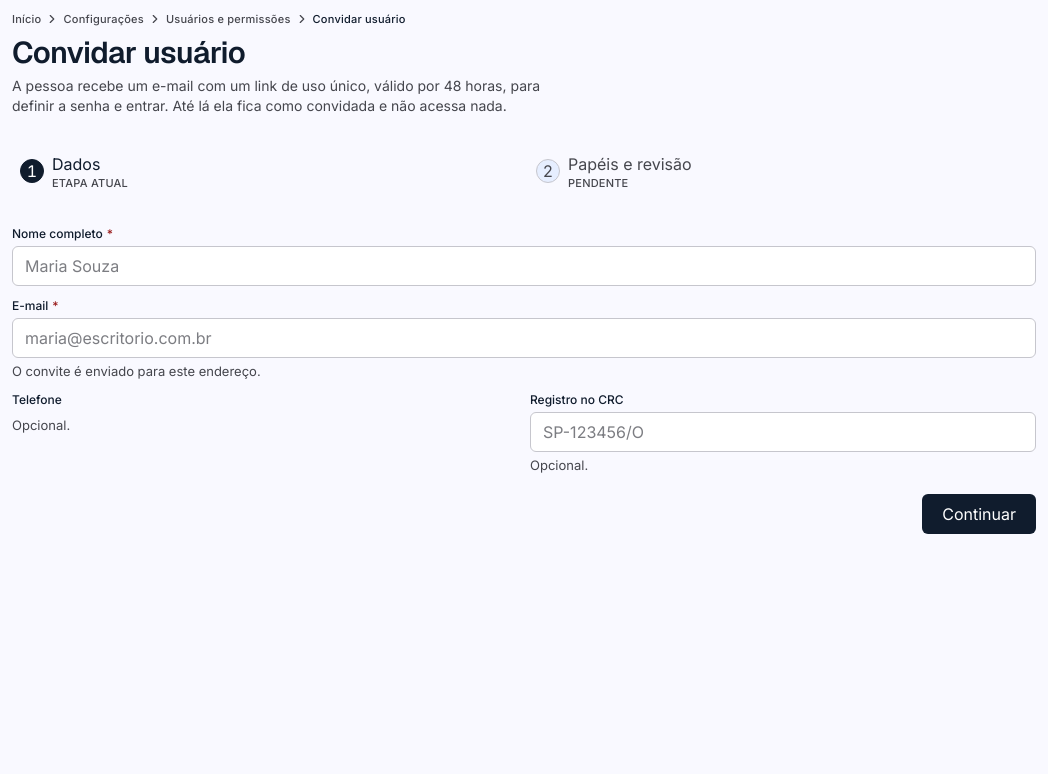
it: etapa 1 — Dados › com dados válidos, vai para a etapa de papéis e revisão
In the field labelled "Nome completo*": {"x": 524, "y": 266} [12,246,1036,286], type "Ana Souza"
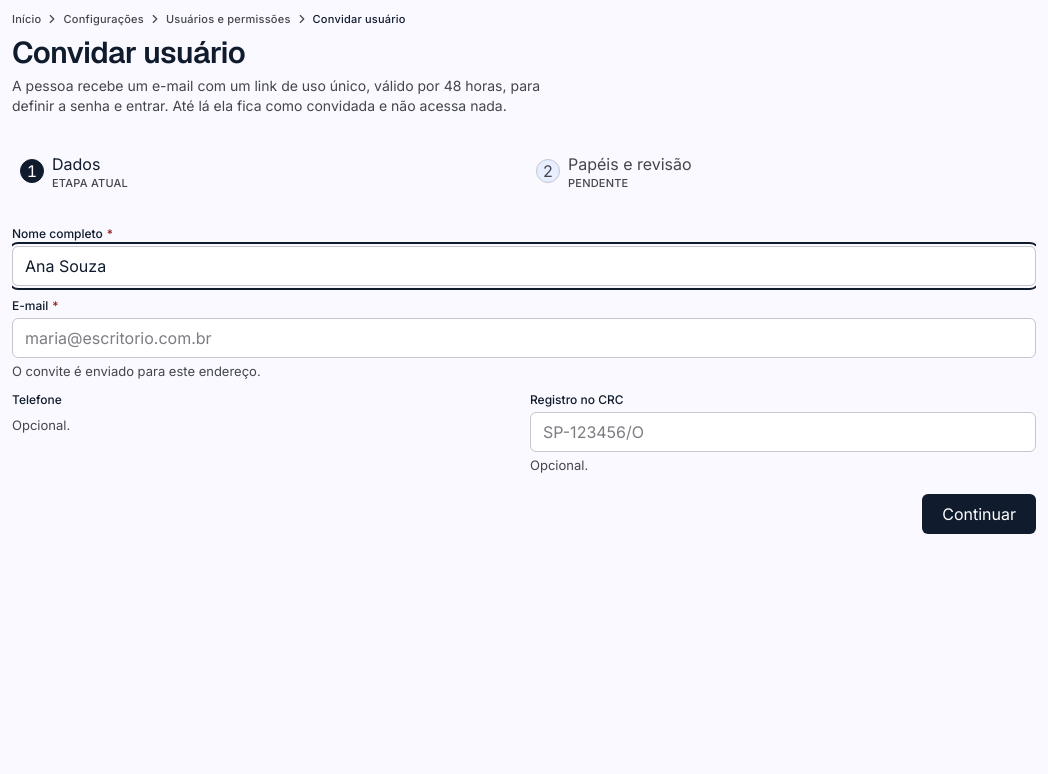
In the field labelled "E-mail*": {"x": 524, "y": 338} [12,318,1036,358], type "ana@escritorio.com"
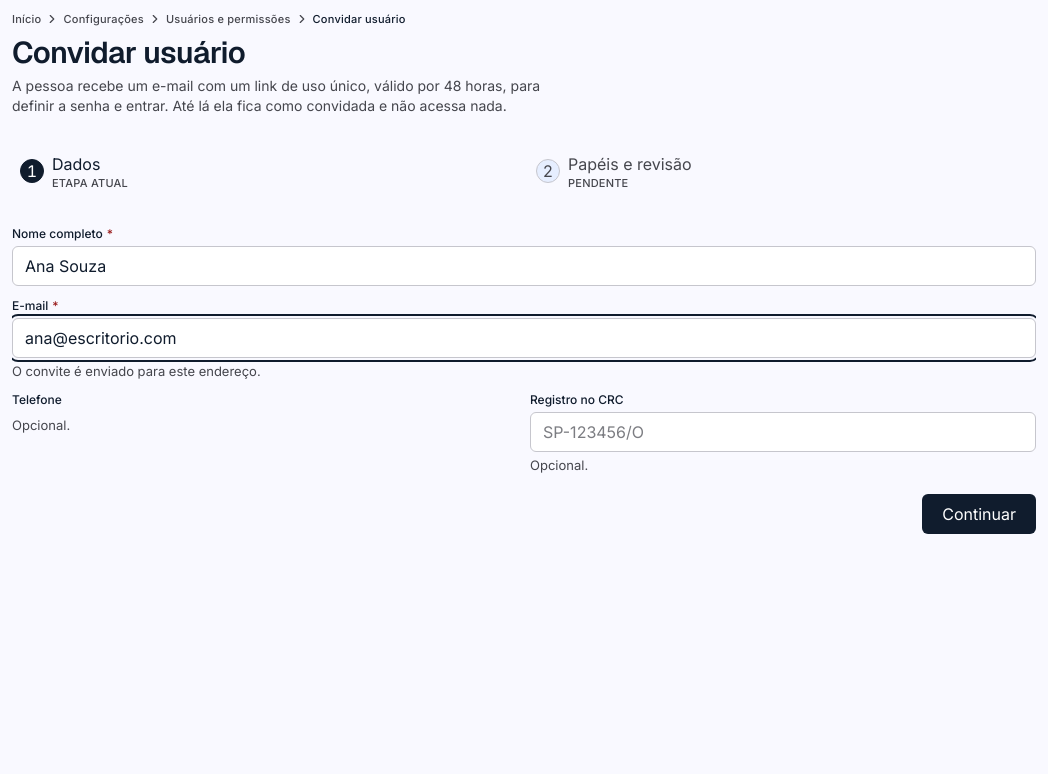
Click the button "Continuar": {"x": 979, "y": 514} [922,494,1036,534]
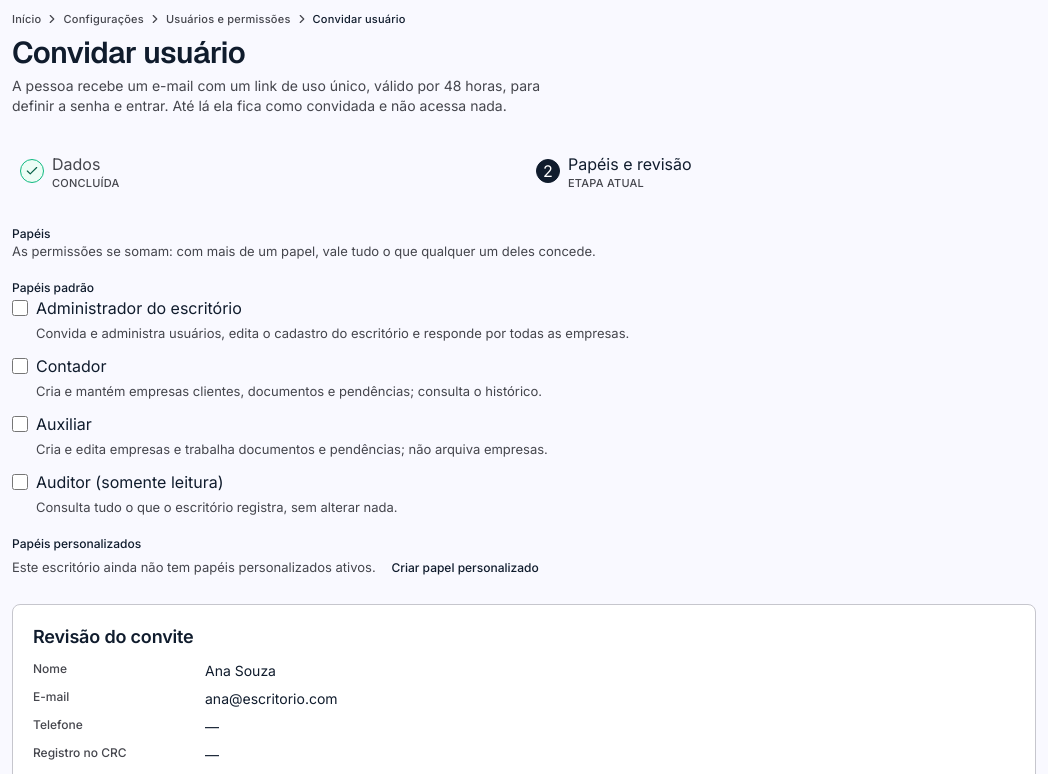
Now the element "Papéis" is shown, box [12,226,629,575]
